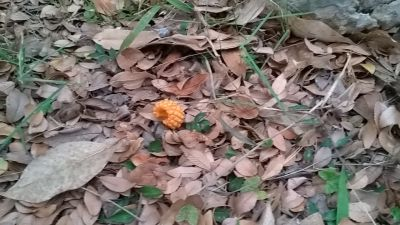eggs: (153, 96, 185, 130)
